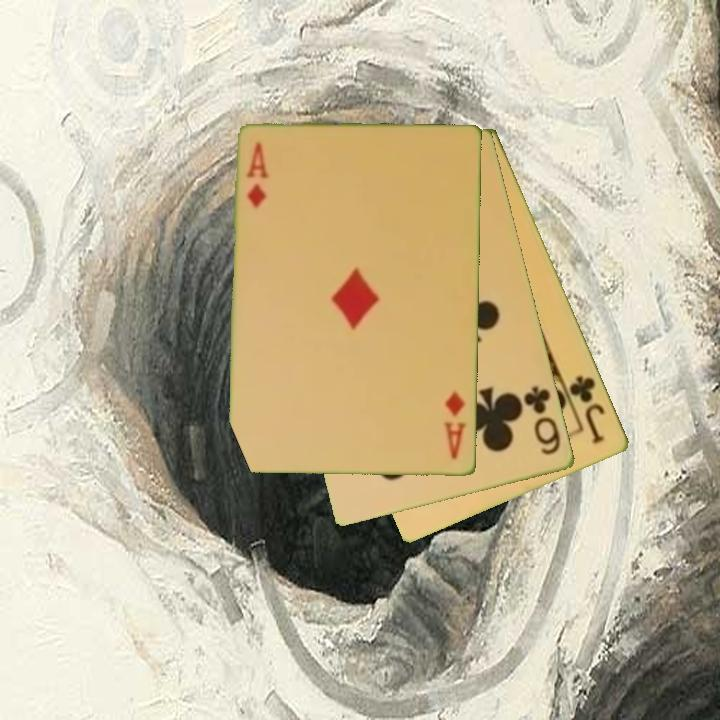6c: (520, 383, 564, 458)
Ad: (440, 388, 469, 463), (243, 139, 272, 212)
Jc: (566, 372, 608, 447)
